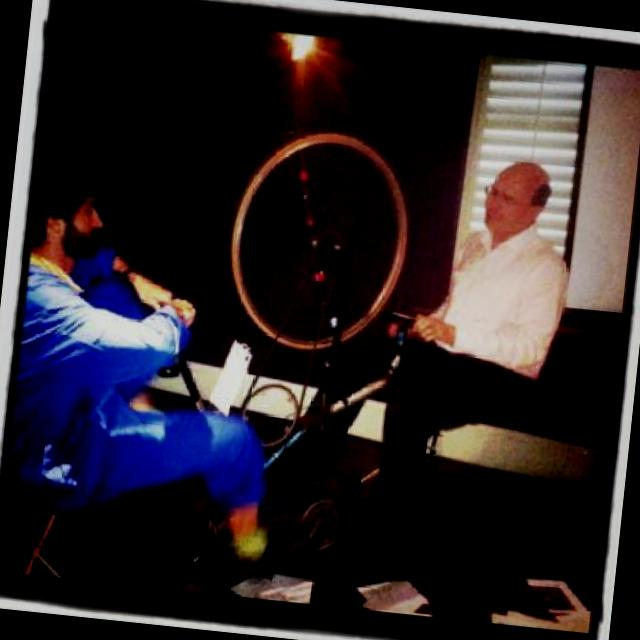Person: (0, 172, 352, 593), (264, 134, 578, 558)
